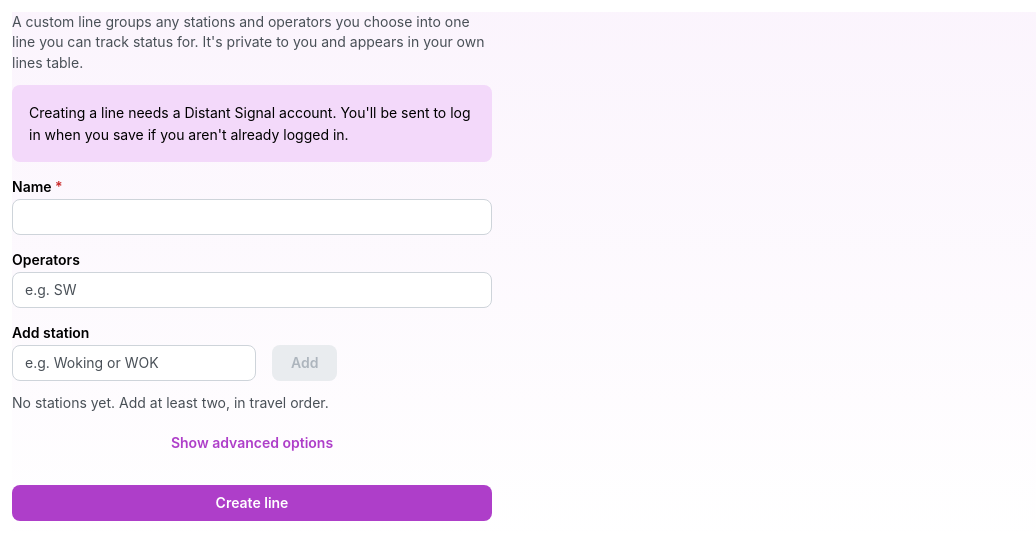
Scenario: CustomLineForm › typing a raw CRS code directly still works, without any dropdown suggestion selected
In the dropdown labelled "Add station": (134, 363) [12,345,256,381], type "wok"
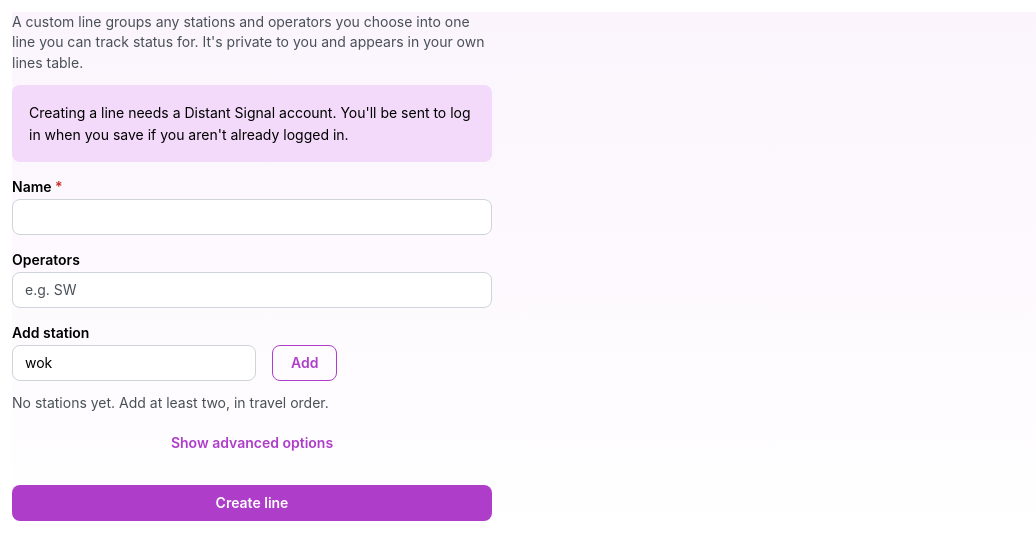
Click the button "Add": (305, 363) [272,345,338,381]
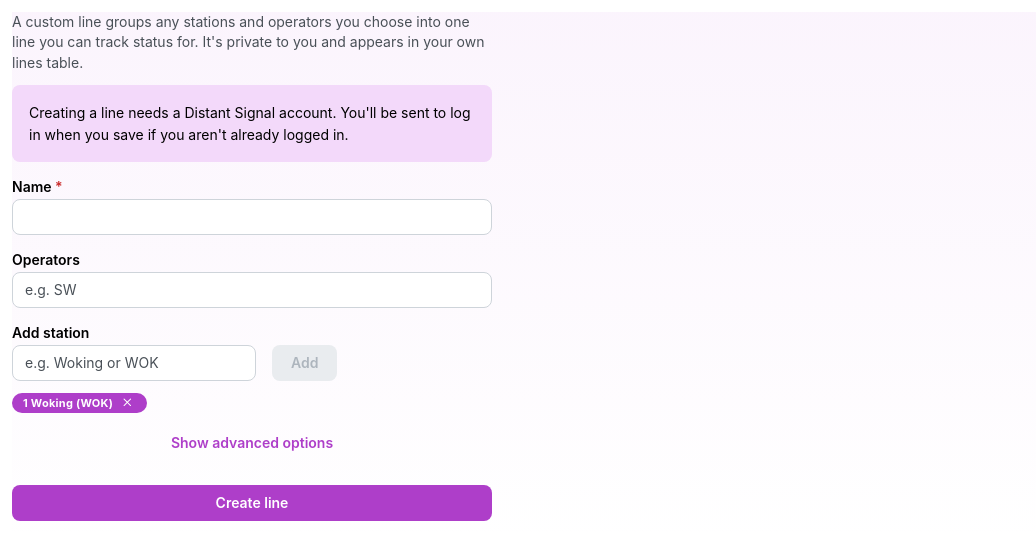
Expected: the text "1 Woking (WOK)" is shown, [23,394,113,412]
Expected: the dropdown labelled "Add station" is empty, [12,345,256,381]
